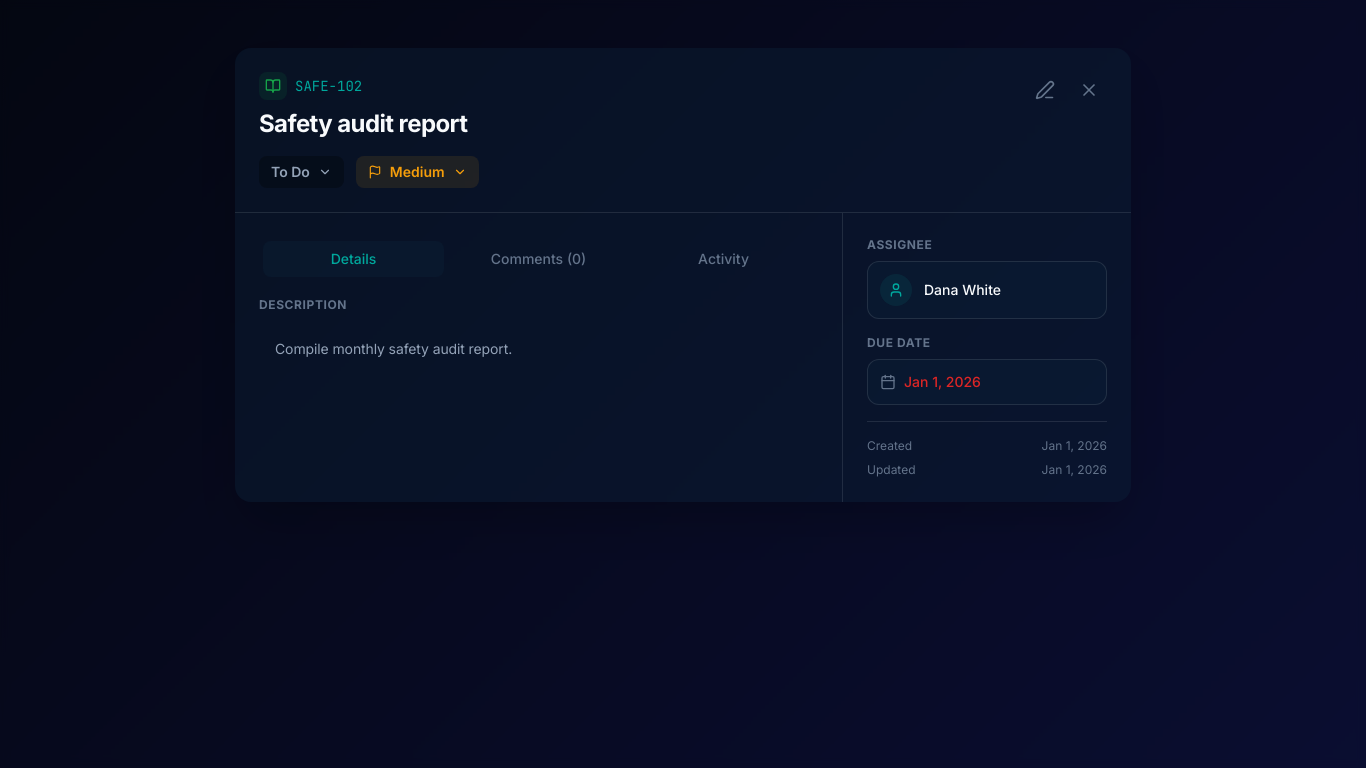
Scenario: TaskDetailModal — comments tab › shows empty state when no comments
Click the button "Comments (0)": (538, 259) [448,241,629,277]
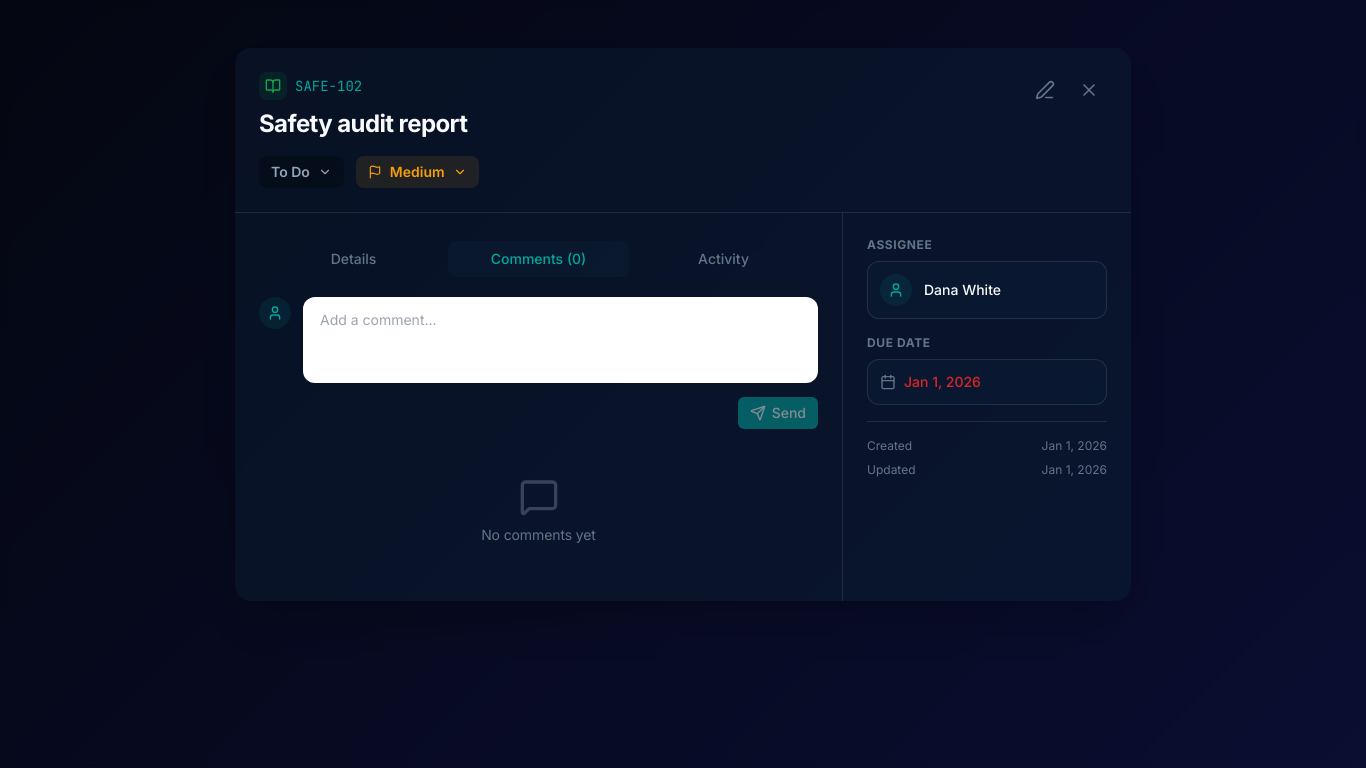
Expected: the text "No comments yet" is shown, [481,526,596,543]
